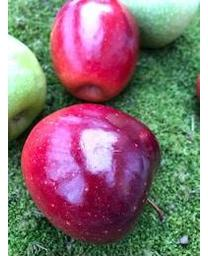apple: (22, 104, 162, 243), (49, 0, 139, 103), (8, 34, 48, 140)
